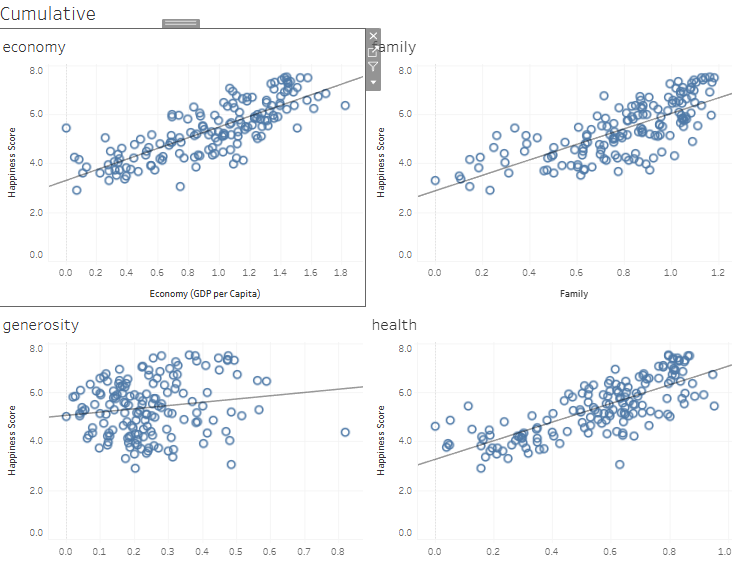

The page's visual inventory and layout, read from the dashboard file:
{"tool":"tableau","page":{"name":"Cumulative","canvas":[1000,800],"ordinal":0},"visuals":[{"type":"title","box":[8,8,984,42]},{"type":"worksheet","title":"economy","mark":"Automatic","rows":["Happiness Score"],"cols":["Economy (GDP per Capita)"],"box":[8,50,492,371]},{"type":"worksheet","title":"family","mark":"Automatic","rows":["Happiness Score"],"cols":["Family"],"box":[500,50,492,371]},{"type":"worksheet","title":"generosity","mark":"Automatic","rows":["Happiness Score"],"cols":["Generosity"],"box":[8,421,492,371]},{"type":"worksheet","title":"health","mark":"Automatic","rows":["Happiness Score"],"cols":["Health (Life Expectancy)"],"box":[500,421,492,371]}]}

Visuals, with their boxes on the page's 1000x800 design canvas (x1, y1, x2, y2). These are canvas units, not pixel positions in the 737x564 screenshot, which may show the page scaled, cropped or inside an application window:
title: [8,8,992,50]
"economy" worksheet: [8,50,500,421]
"family" worksheet: [500,50,992,421]
"generosity" worksheet: [8,421,500,792]
"health" worksheet: [500,421,992,792]
